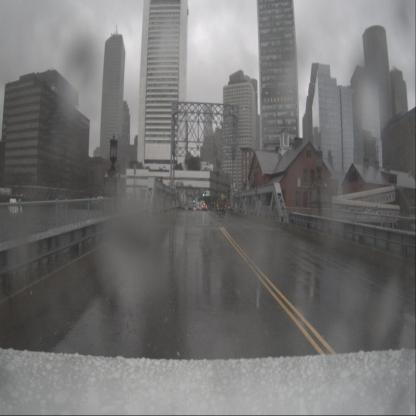vehicle-car: (214, 198, 226, 214), (202, 204, 209, 212)
vehicle-truck: (200, 200, 205, 210)
